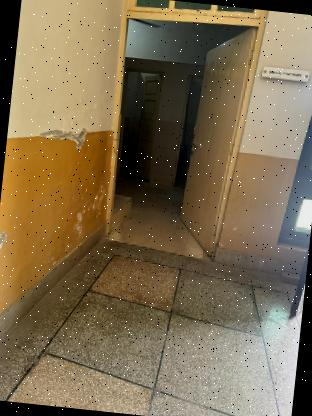door: (90, 0, 273, 266)
